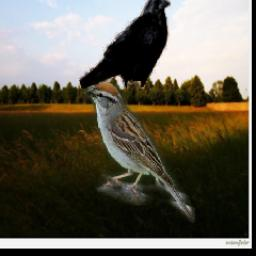Crow: (79, 0, 171, 90)
Sparrow: (84, 80, 195, 223)
